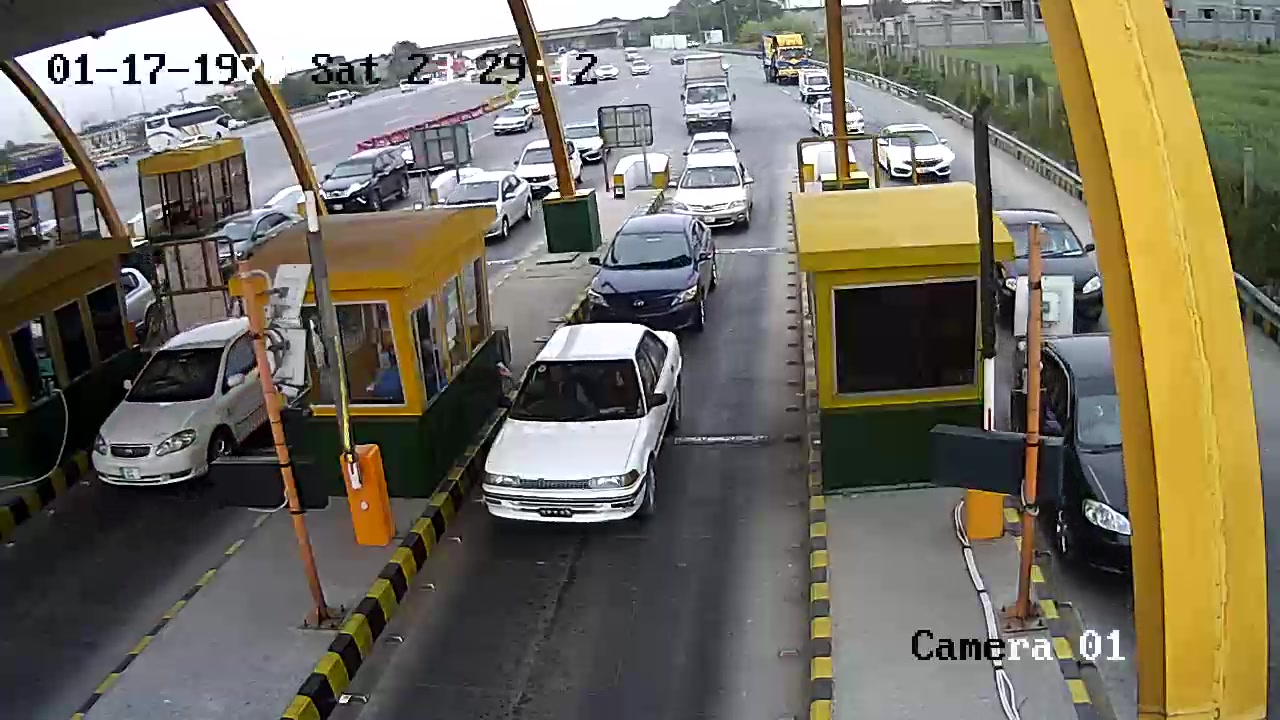F1: (486, 315, 707, 530)
